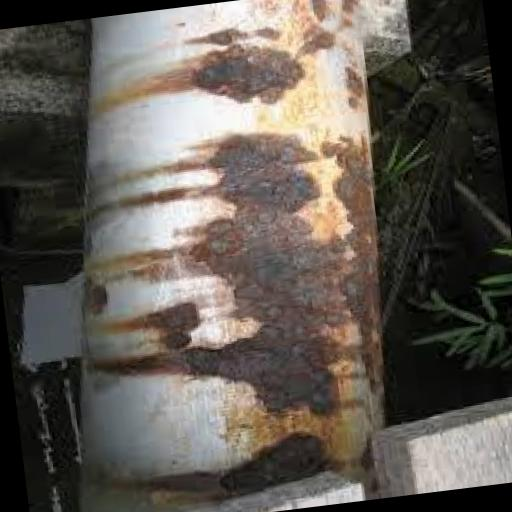segmentation: (134, 112, 437, 433), (323, 126, 423, 234), (214, 435, 322, 497), (193, 46, 298, 100)
